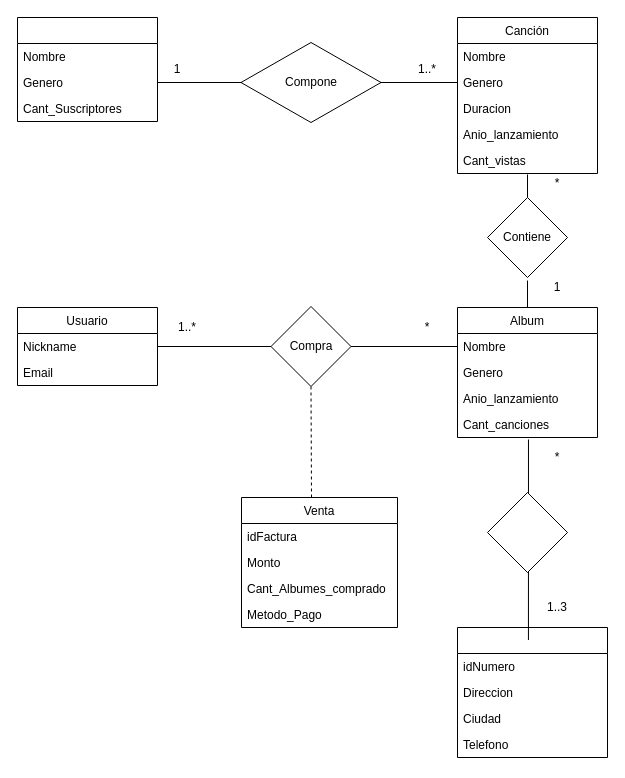
Some shapes in this 625 by 778 pixel diagram are drawn without their labels. The box of each missing label's shape, as (x1, y1, x2, y2) in pixels:
Almacena: (486, 492, 568, 572)
Artista: (16, 16, 158, 122)
Local: (456, 626, 608, 758)
